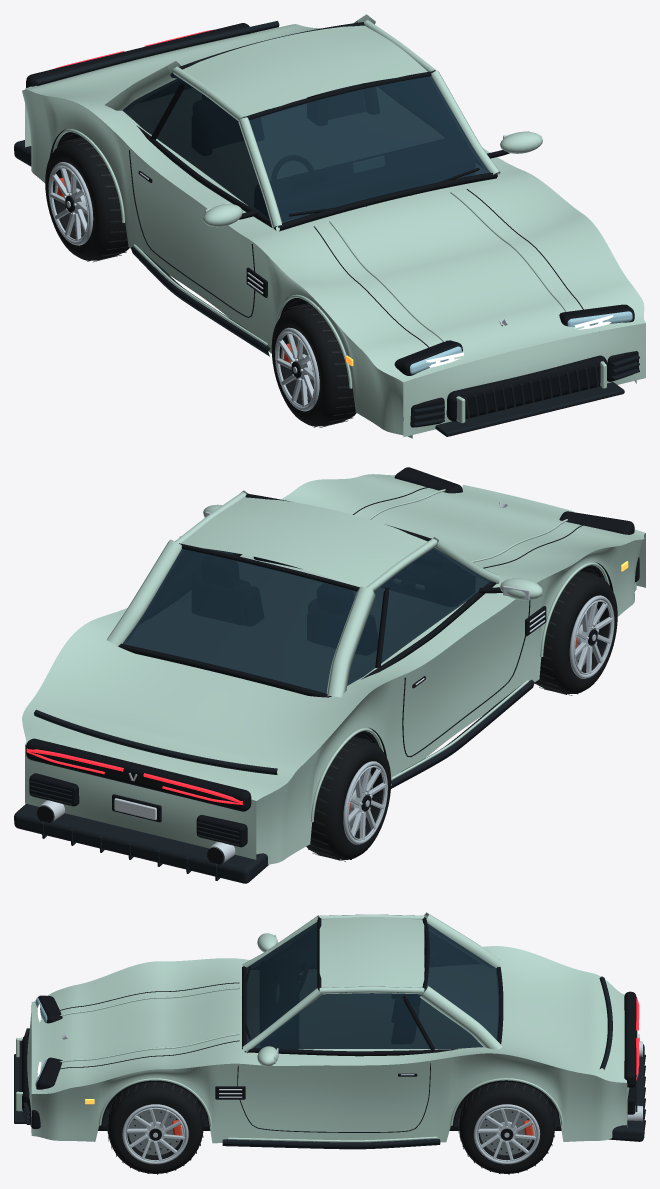
The model's file is AFTERLIGHT-aurora.glb.
3 views of the same model, one above another, from view 1: azimuth 30°, elevation 25°; view 2: azimuth 150°, elevation 25°; view 3: azimuth 270°, elevation 25° (orthographic). The views are drawn at different scales.
Visible parts, largest first — view 1: batch:pearlescent body paint, batch:smoked laminated glass, batch:satin black trim, batch:tire rubber (×2), batch:graphite composite (×2), batch:forged brushed alloy (×2), batch:headlamp optical lenses; view 2: batch:pearlescent body paint, batch:smoked laminated glass, batch:satin black trim, batch:graphite composite (×2), batch:tire rubber (×2), batch:forged brushed alloy (×2), batch:polished metal, batch:rear light emitters; view 3: batch:pearlescent body paint, batch:smoked laminated glass, batch:tire rubber (×2), batch:satin black trim, batch:graphite composite (×2), batch:forged brushed alloy (×2), batch:machined rotor steel (×2), batch:polished metal.
Boxes of the visible parts, <box> form: batch:pearlescent body paint: <box>22,14,645,438</box>; batch:smoked laminated glass: <box>122,72,489,227</box>; batch:satin black trim: <box>26,22,639,427</box>; batch:tire rubber (×2): <box>45,137,355,426</box>; batch:graphite composite (×2): <box>14,21,639,436</box>; batch:forged brushed alloy (×2): <box>48,162,319,411</box>; batch:headlamp optical lenses: <box>410,311,632,374</box>; batch:pearlescent body paint: <box>22,474,645,864</box>; batch:smoked laminated glass: <box>122,546,491,693</box>; batch:satin black trim: <box>26,467,639,864</box>; batch:graphite composite (×2): <box>14,680,534,883</box>; batch:tire rubber (×2): <box>306,571,617,859</box>; batch:forged brushed alloy (×2): <box>343,595,614,844</box>; batch:polished metal: <box>40,502,545,862</box>; batch:rear light emitters: <box>26,748,243,804</box>; batch:pearlescent body paint: <box>16,912,629,1143</box>; batch:smoked laminated glass: <box>246,922,499,1049</box>; batch:tire rubber (×2): <box>107,1082,554,1173</box>; batch:satin black trim: <box>21,917,636,1132</box>; batch:graphite composite (×2): <box>14,976,645,1149</box>; batch:forged brushed alloy (×2): <box>122,1104,540,1164</box>; batch:machined rotor steel (×2): <box>128,1107,532,1155</box>; batch:polished metal: <box>62,934,642,1121</box>.
Size of the model in its own units: 2.34 by 1.5 by 4.89.
